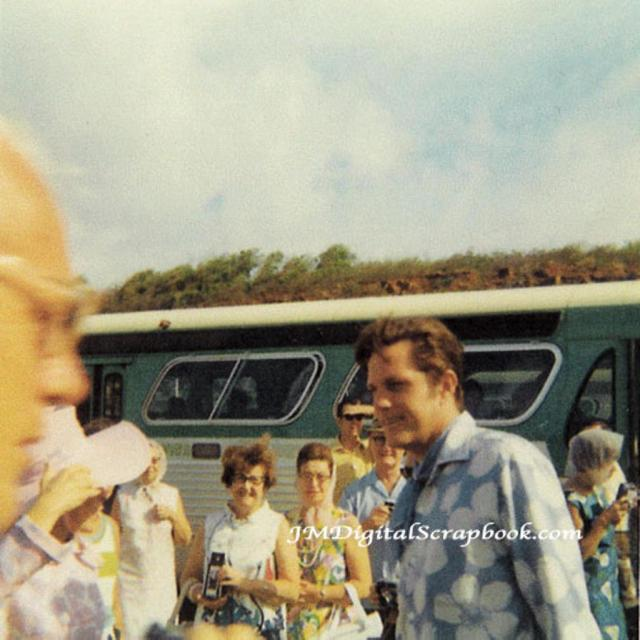nomask: (1, 172, 90, 529), (366, 342, 434, 444), (232, 465, 262, 508), (300, 460, 330, 503), (372, 431, 402, 464), (592, 450, 616, 486), (138, 446, 162, 482), (343, 406, 361, 435)
